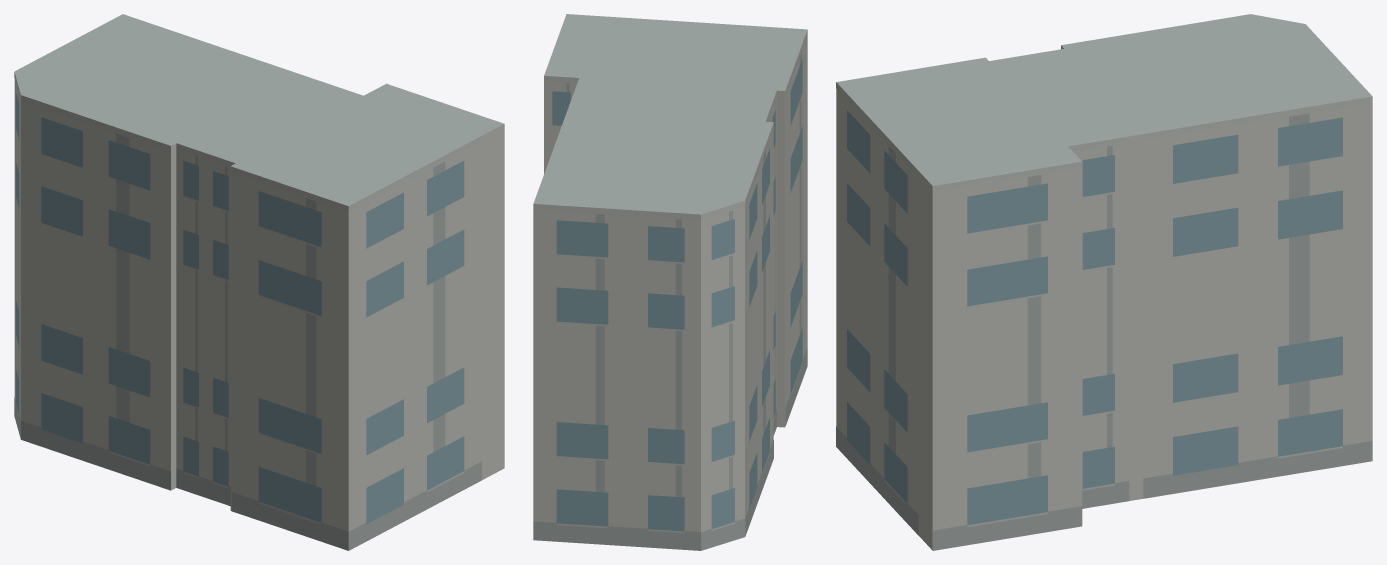
Rendered from survey-upis-32860716.glb.
The picture shows the model from 3 angles, left to right: view 1: azimuth 30°, elevation 25°; view 2: azimuth 150°, elevation 25°; view 3: azimuth 270°, elevation 25°; orthographic projection. The views are drawn at different scales.
Visible parts, largest first — view 1: survey-upis-32860716.tmp; view 2: survey-upis-32860716.tmp; view 3: survey-upis-32860716.tmp.
Boxes of the visible parts, box(x1,y1,x2,y2) form: survey-upis-32860716.tmp: box(14, 14, 504, 550); survey-upis-32860716.tmp: box(533, 14, 807, 550); survey-upis-32860716.tmp: box(836, 14, 1372, 550).
Size of the model in its own units: 13.63 by 13.46 by 17.95.
